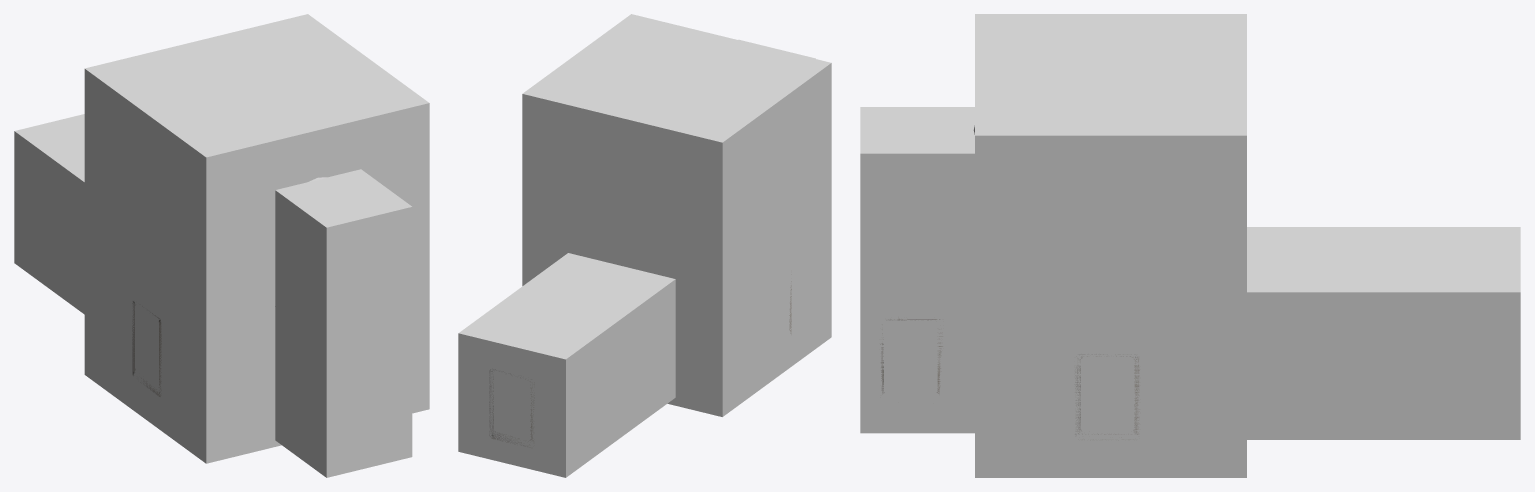
The model's file is hdu-1.glb.
The picture shows the model from 3 angles, left to right: view 1: azimuth 30°, elevation 25°; view 2: azimuth 150°, elevation 25°; view 3: azimuth 270°, elevation 25°; orthographic projection. The views are drawn at different scales.
Visible parts, largest first — view 1: COL_hdu-1, hdu-1; view 2: COL_hdu-1, hdu-1; view 3: COL_hdu-1, hdu-1.
Boxes of the visible parts, x1=… form: COL_hdu-1: x1=14, y1=14, x2=429, y2=477; hdu-1: x1=132, y1=177, x2=326, y2=396; COL_hdu-1: x1=458, y1=14, x2=831, y2=477; hdu-1: x1=489, y1=274, x2=791, y2=447; COL_hdu-1: x1=860, y1=14, x2=1520, y2=477; hdu-1: x1=880, y1=125, x2=1139, y2=440.
Bounding box in the file's own units: 5 × 6.55 × 11.46.
Materials: 1 (1 with a texture image).
